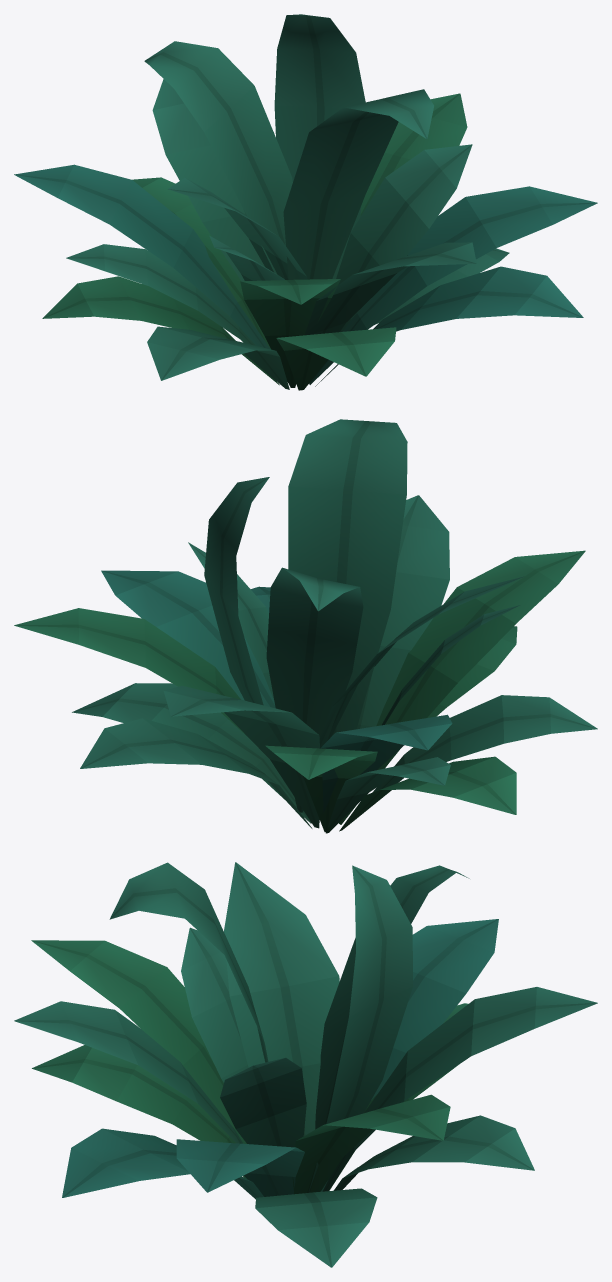
The model's file is Hosta1.fbx.
The picture shows the model from 3 angles, top to bottom: view 1: azimuth 30°, elevation 25°; view 2: azimuth 150°, elevation 25°; view 3: azimuth 270°, elevation 25°; orthographic projection. The views are drawn at different scales.
Visible parts, largest first — view 1: Plane.164; view 2: Plane.164; view 3: Plane.164.
Part boxes in pixels (x1,y1,x2,y2): Plane.164: [14, 14, 597, 390]; Plane.164: [14, 419, 597, 833]; Plane.164: [14, 862, 597, 1267].
Size of the model in its own units: 206 by 205 by 143.
